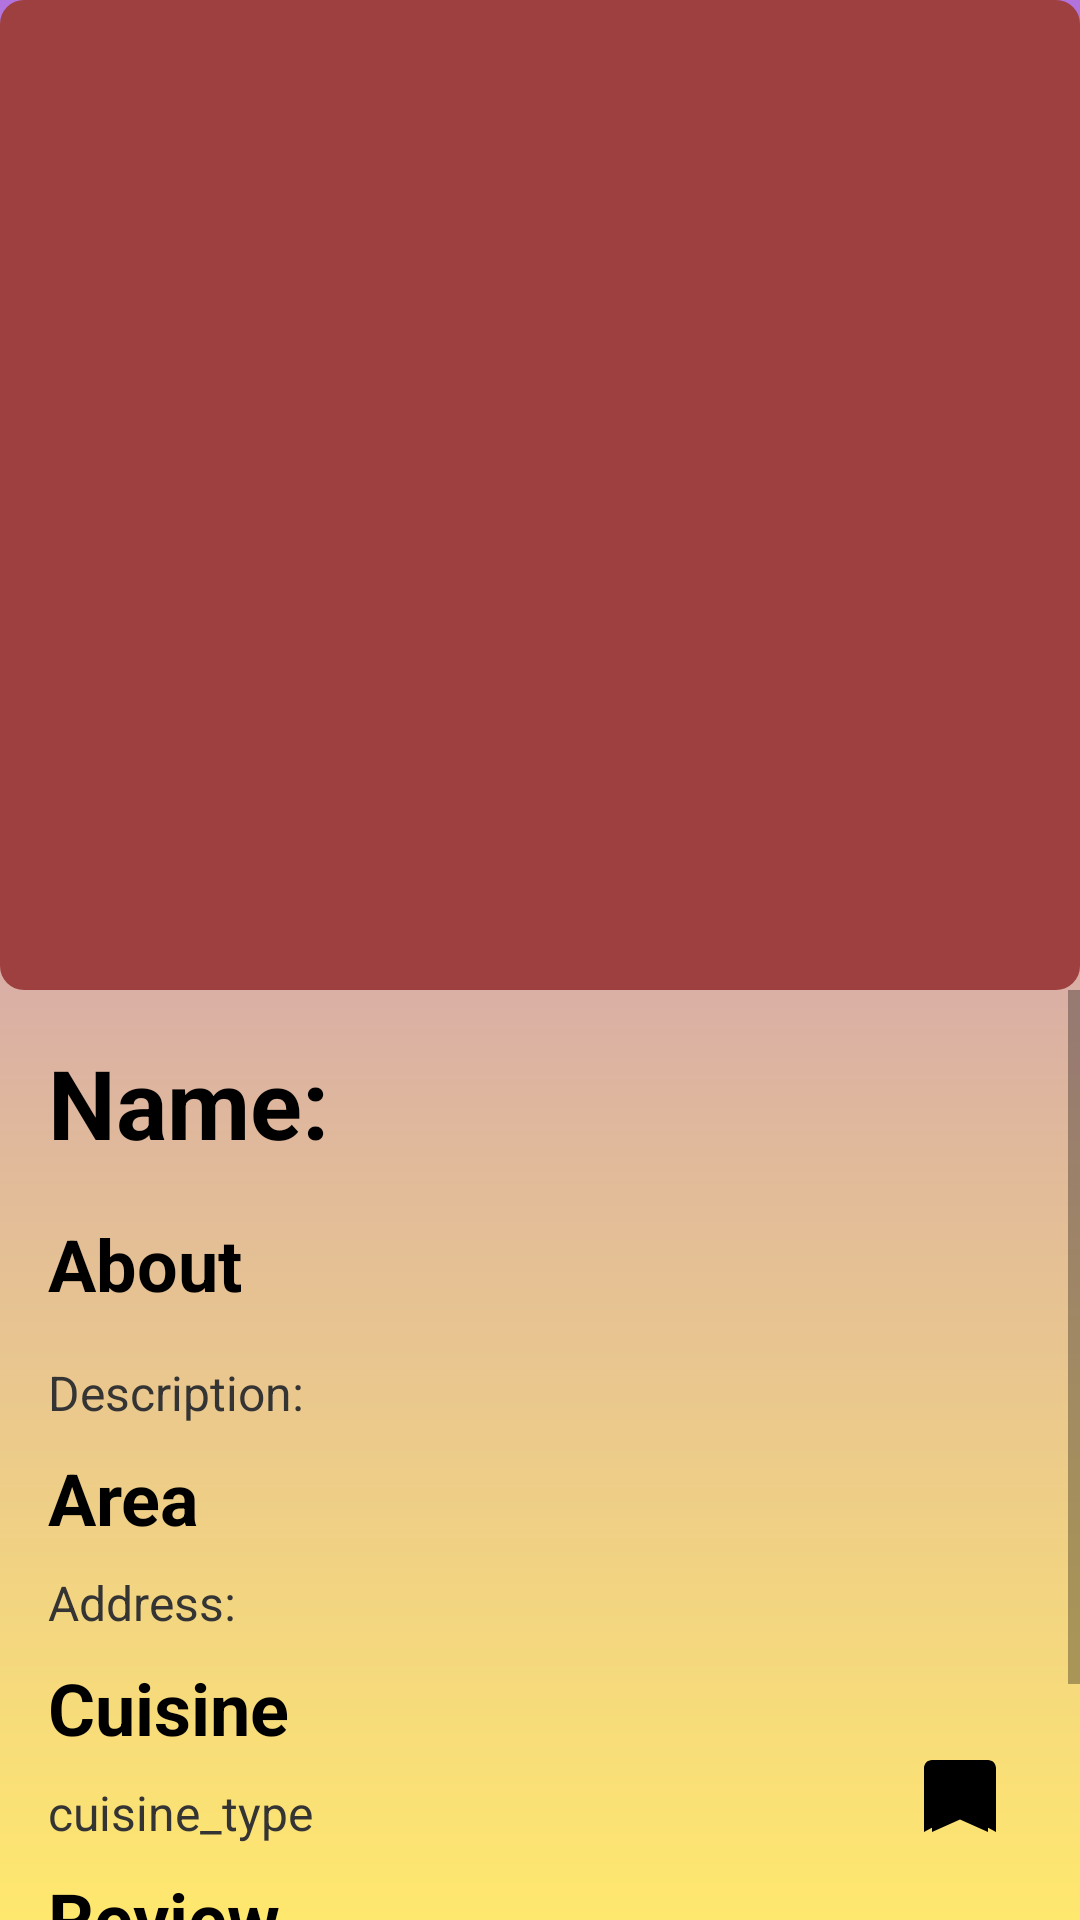

Where icons sit on this 1080w x 1920h app screen, as (x1, y1, x2, y2):
bookmark: (924, 1760, 996, 1832)
